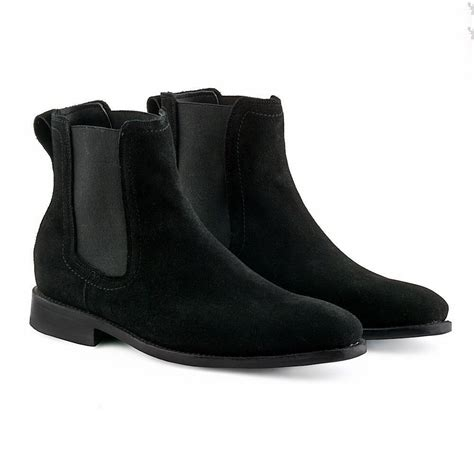gamuza: (33, 89, 449, 355)
